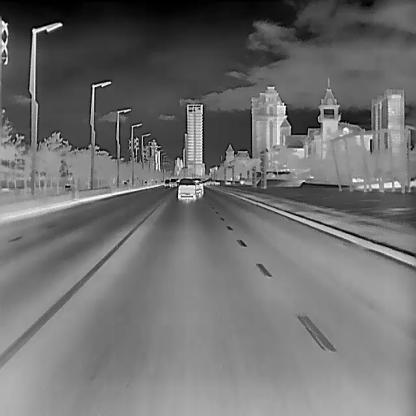car: (177, 176, 195, 199), (193, 177, 203, 196), (169, 177, 176, 187), (163, 178, 170, 186)
